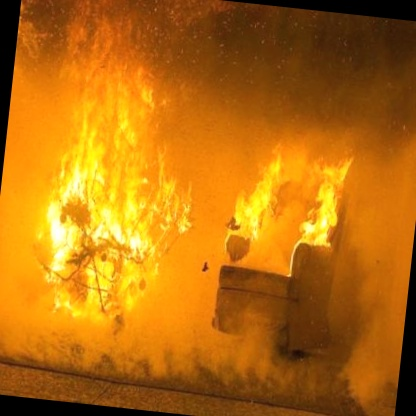fire: (14, 66, 372, 362)
